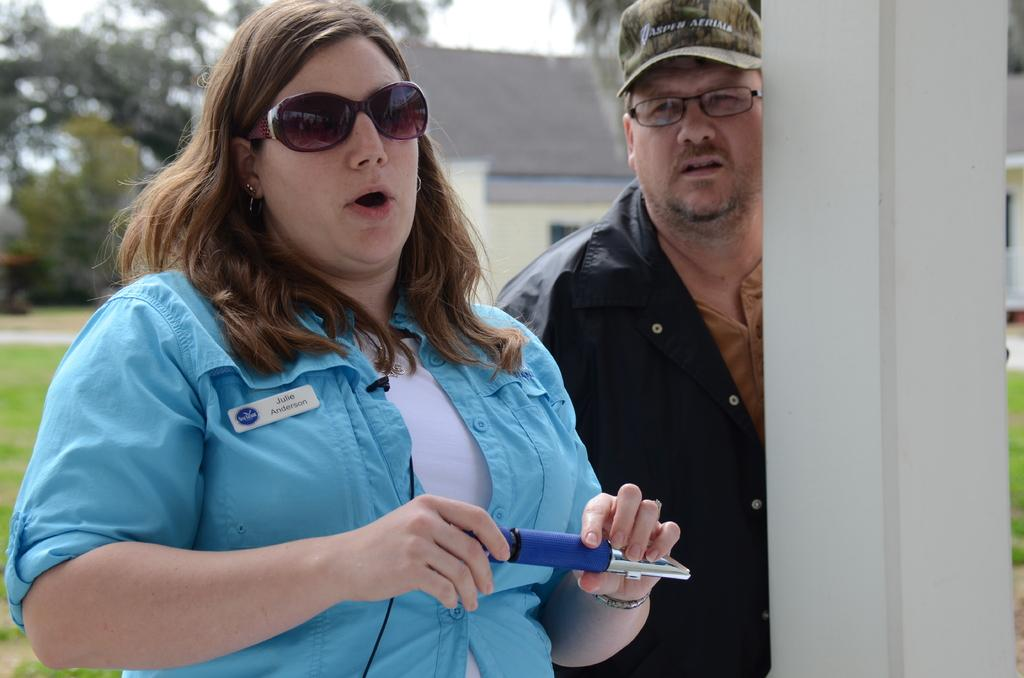Hat: (615, 0, 757, 101)
